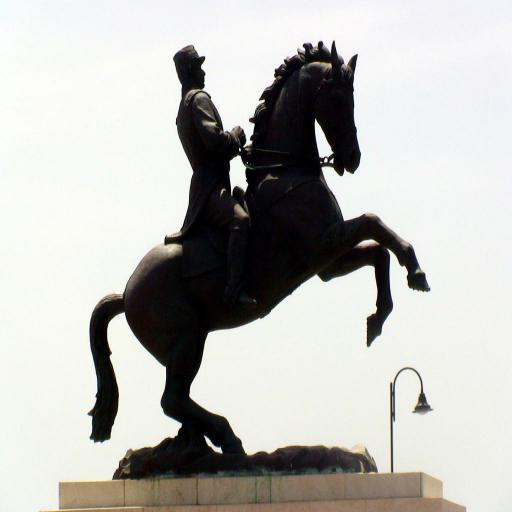horse: (86, 37, 432, 458)
